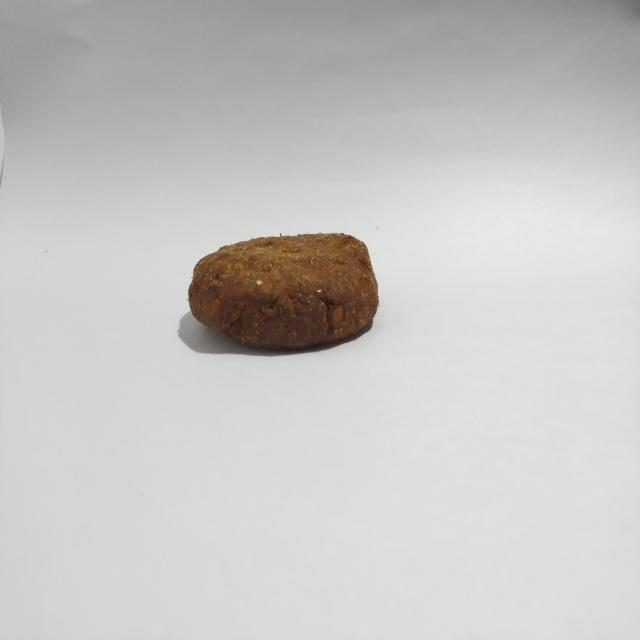Pajagua: (181, 211, 389, 369)
